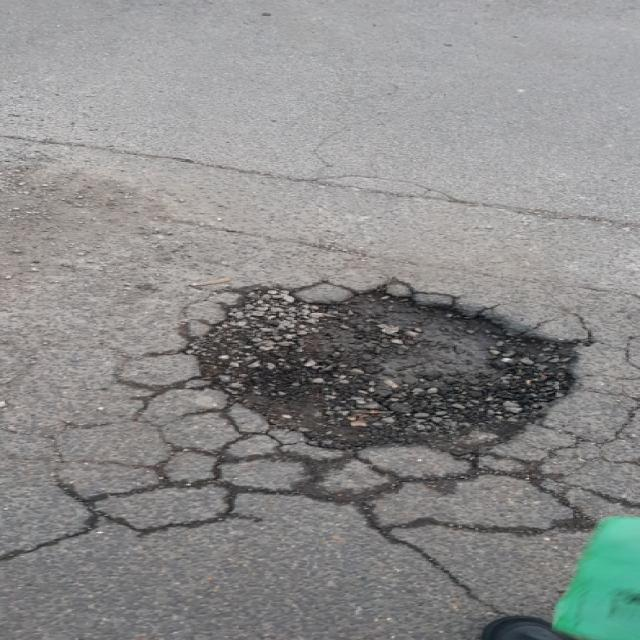pothole: (168, 273, 598, 456)
